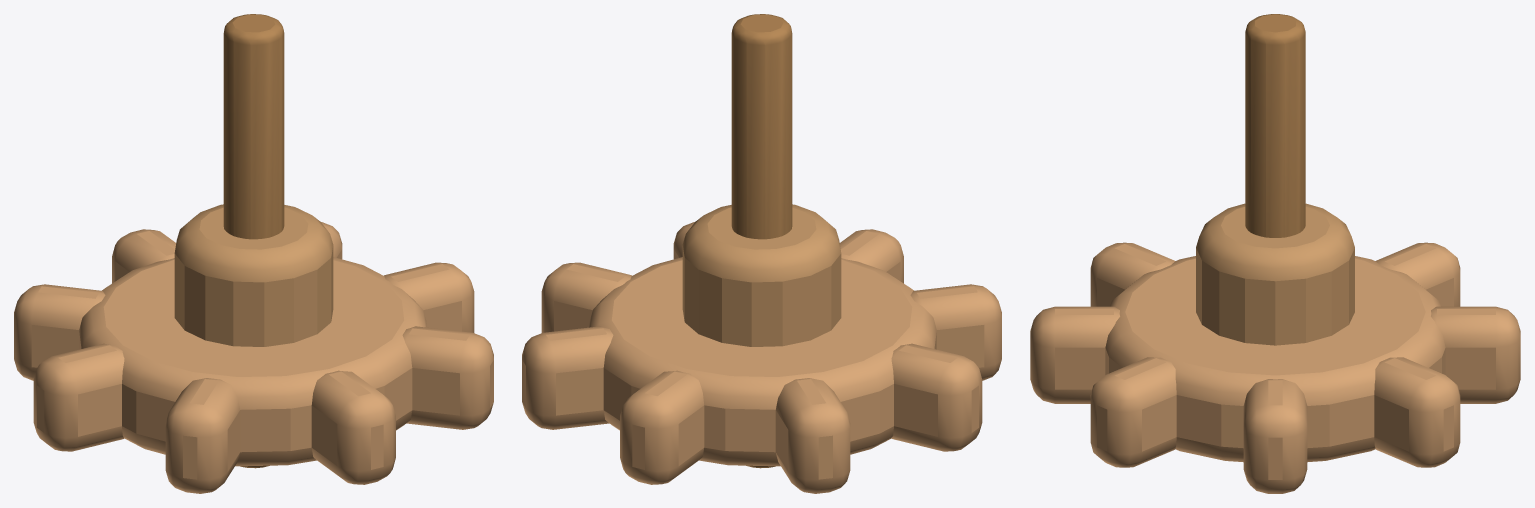
The model's file is gear.glb.
3 views of the same model, side by side, from view 1: azimuth 30°, elevation 25°; view 2: azimuth 150°, elevation 25°; view 3: azimuth 270°, elevation 25° (orthographic).
Visible parts, largest first — view 1: axle; view 2: axle; view 3: axle.
Boxes of the visible parts, x1,y1,x2,y2 form: axle: (14,14,493,493); axle: (522,14,1001,493); axle: (1030,14,1520,493).
Bounding box in the file's own units: 0.9625 × 0.9375 × 0.9625.
